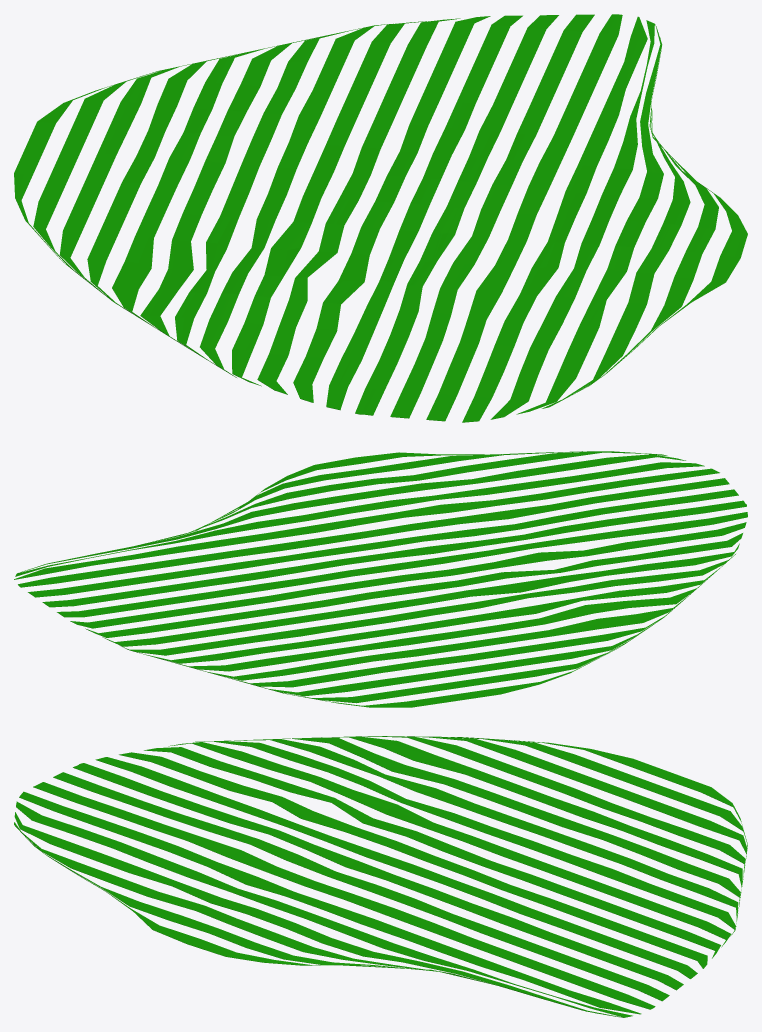
File: PlatformLines03.fbx
3 renders of one model, top to bottom at view 1: azimuth 30°, elevation 25°; view 2: azimuth 150°, elevation 25°; view 3: azimuth 270°, elevation 25°, orthographic. The views are drawn at different scales.
Parts seen in each view (by area): view 1: Cube.010; view 2: Cube.010; view 3: Cube.010.
Boxes of the visible parts, left/top/right/bottom form: Cube.010: left=14, top=14, right=747, bottom=422; Cube.010: left=14, top=451, right=747, bottom=707; Cube.010: left=14, top=736, right=747, bottom=1017.
Size of the model in its own units: 8284 by 68.74 by 9160.
